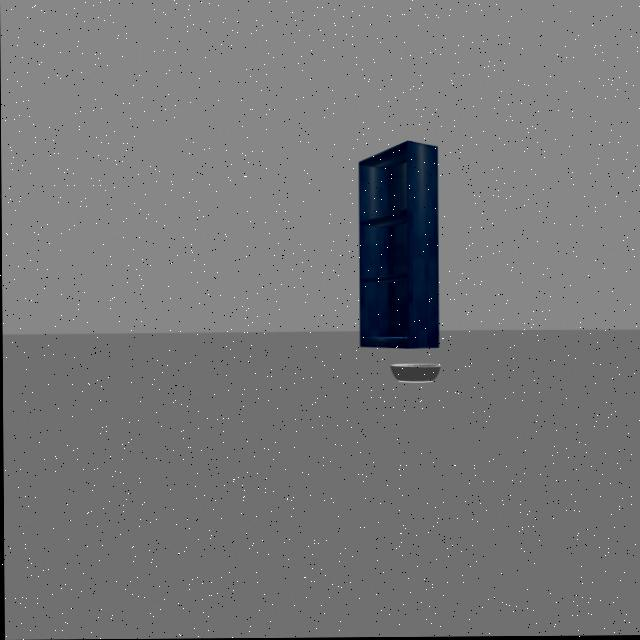bowl: (383, 356, 447, 393)
shelf: (355, 133, 447, 356)
